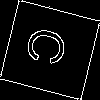C: (24, 24, 76, 71)
